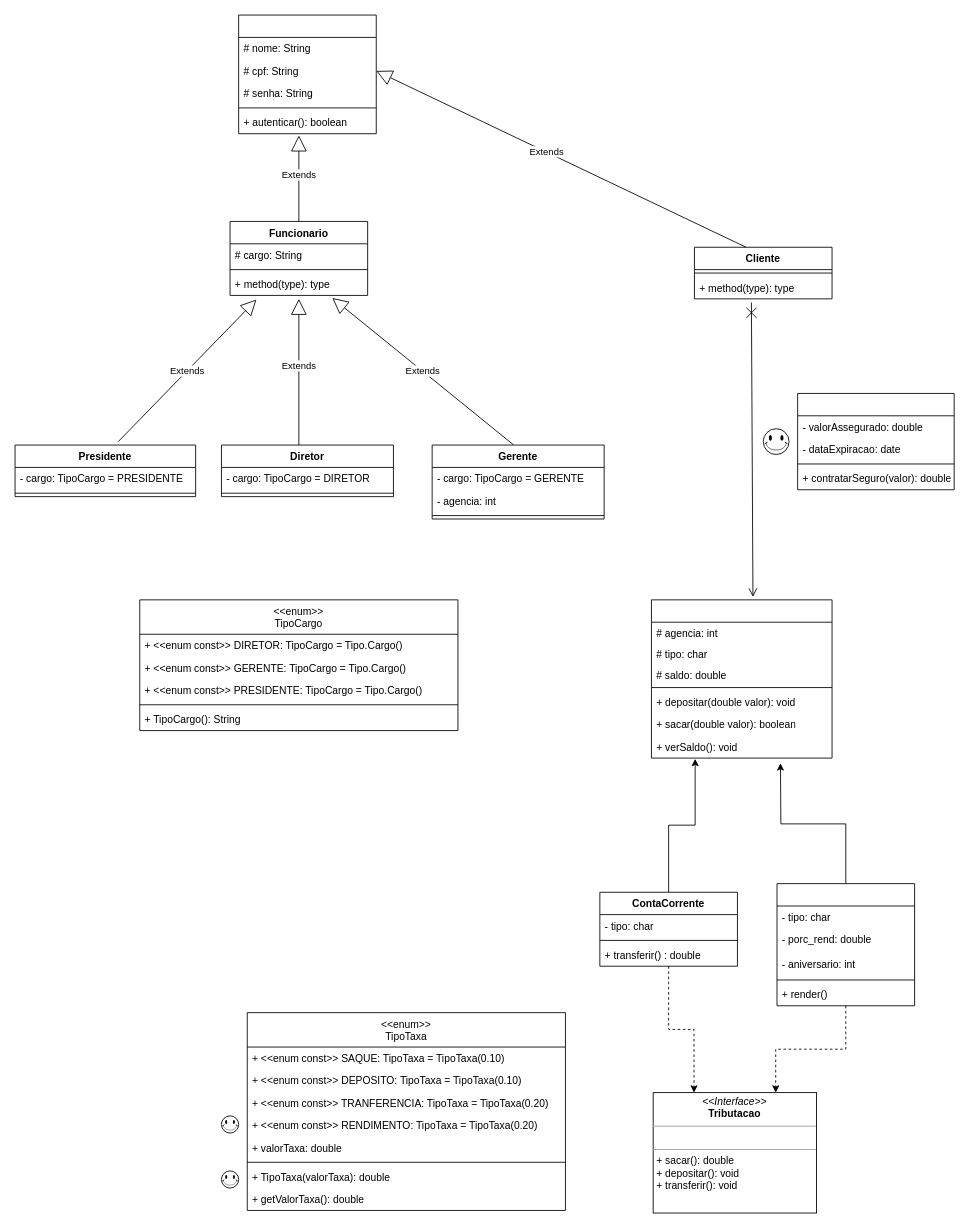
The diagram is 969 pixels wide and 1228 high, and some of its shapes have lost their labels. Here are the shapes that lost their labels. From the top down, the box of each, then its label:
(238, 14, 376, 134): Usuario
(797, 393, 954, 490): SeguroVida
(651, 599, 832, 758): Conta
(776, 883, 915, 1006): ContaPoupanca
